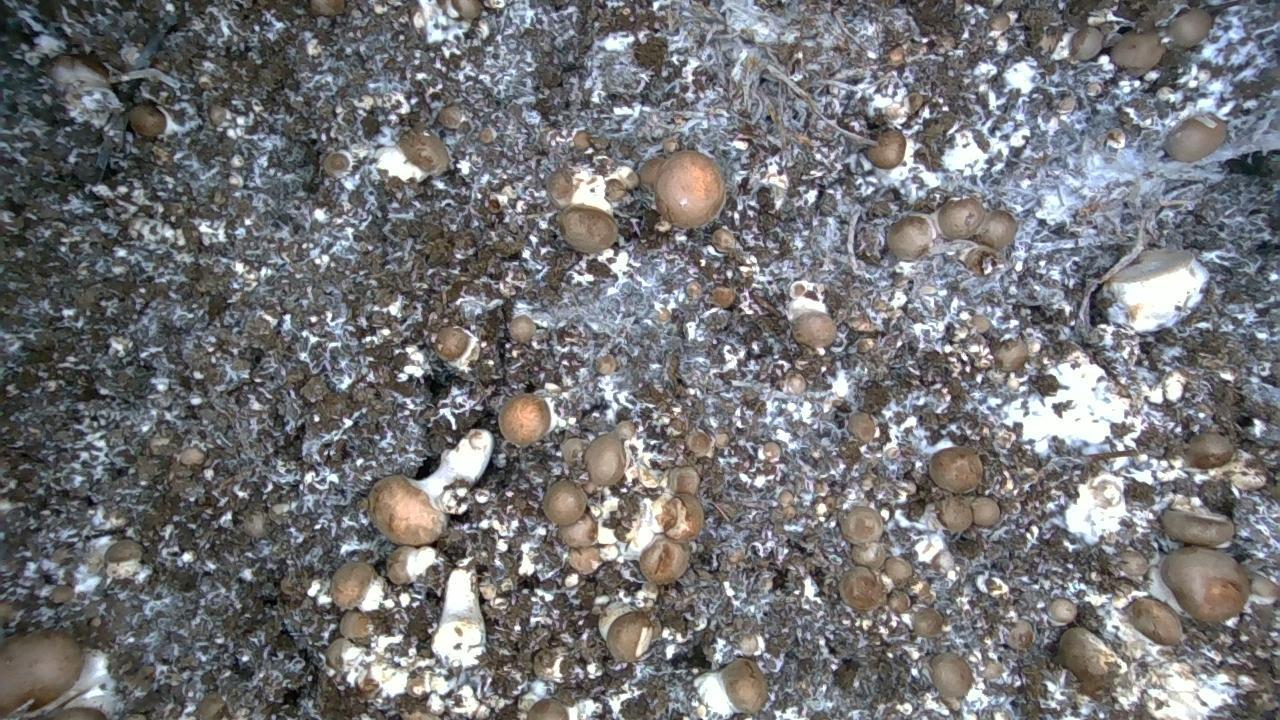BB: (0, 630, 82, 717), (1161, 546, 1249, 622), (654, 151, 725, 227), (368, 475, 445, 545), (1057, 627, 1119, 694), (1162, 496, 1234, 546), (599, 602, 659, 662), (376, 131, 449, 180), (559, 204, 617, 253), (1165, 116, 1226, 162), (498, 394, 550, 445), (330, 562, 384, 610), (721, 658, 767, 712), (929, 447, 982, 493), (1129, 598, 1182, 644), (639, 535, 688, 583), (1110, 32, 1164, 75), (584, 433, 626, 485), (887, 216, 933, 261), (542, 479, 586, 525), (839, 566, 885, 610), (434, 326, 478, 370), (937, 198, 984, 239), (931, 653, 973, 697), (387, 546, 435, 583), (1184, 433, 1234, 468), (1168, 8, 1212, 47), (974, 210, 1017, 248), (792, 311, 836, 348), (841, 506, 883, 543), (867, 130, 905, 168), (105, 539, 142, 578), (559, 512, 597, 547), (128, 104, 166, 137), (940, 496, 974, 532), (1069, 26, 1102, 61), (994, 339, 1028, 370), (912, 608, 943, 637), (527, 698, 569, 719), (971, 496, 1000, 526), (848, 412, 876, 442), (195, 693, 227, 719), (1007, 620, 1034, 650), (569, 547, 600, 573), (1048, 598, 1076, 624), (309, 0, 344, 16), (888, 590, 910, 613), (970, 314, 991, 333), (572, 130, 591, 150)
